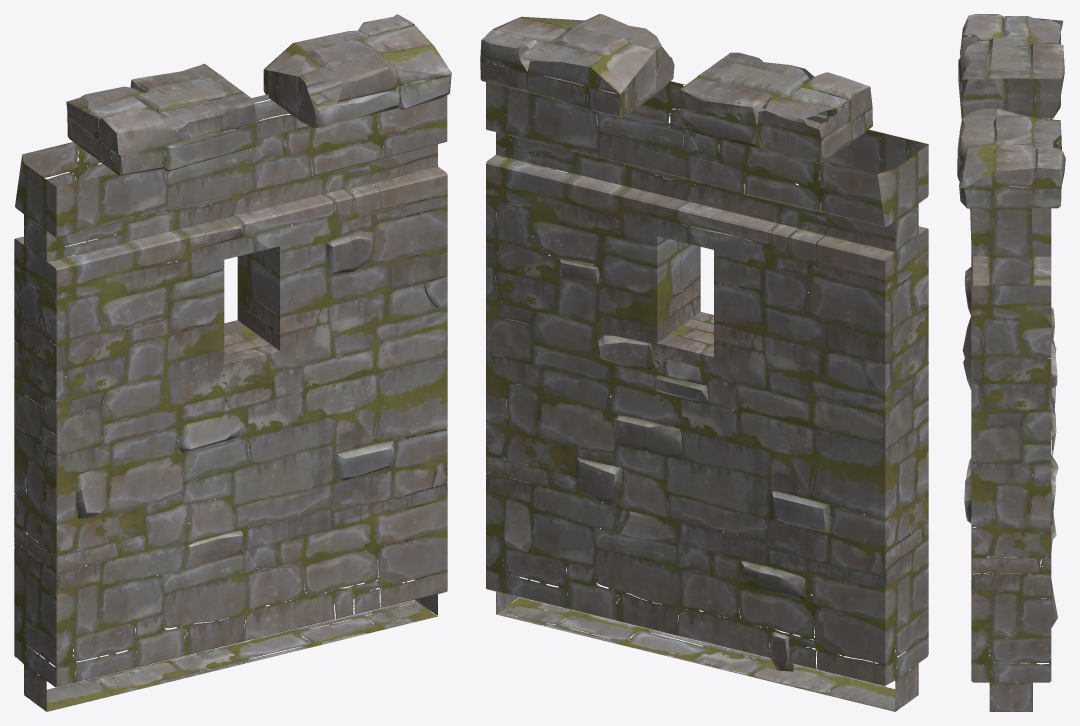
3 views of the same model, side by side, from view 1: azimuth 30°, elevation 25°; view 2: azimuth 150°, elevation 25°; view 3: azimuth 270°, elevation 25° (orthographic). The views are drawn at different scales.
Parts seen in each view (by area): view 1: SM_Castle_Wall_4x4_01_LOD0; view 2: SM_Castle_Wall_4x4_01_LOD0; view 3: SM_Castle_Wall_4x4_01_LOD0.
Part boxes in pixels (bbox=[...]): SM_Castle_Wall_4x4_01_LOD0: bbox=[14, 14, 451, 711]; SM_Castle_Wall_4x4_01_LOD0: bbox=[480, 14, 928, 711]; SM_Castle_Wall_4x4_01_LOD0: bbox=[957, 14, 1065, 711].
Size of the model in its own units: 4.01 by 5.64 by 1.02.
